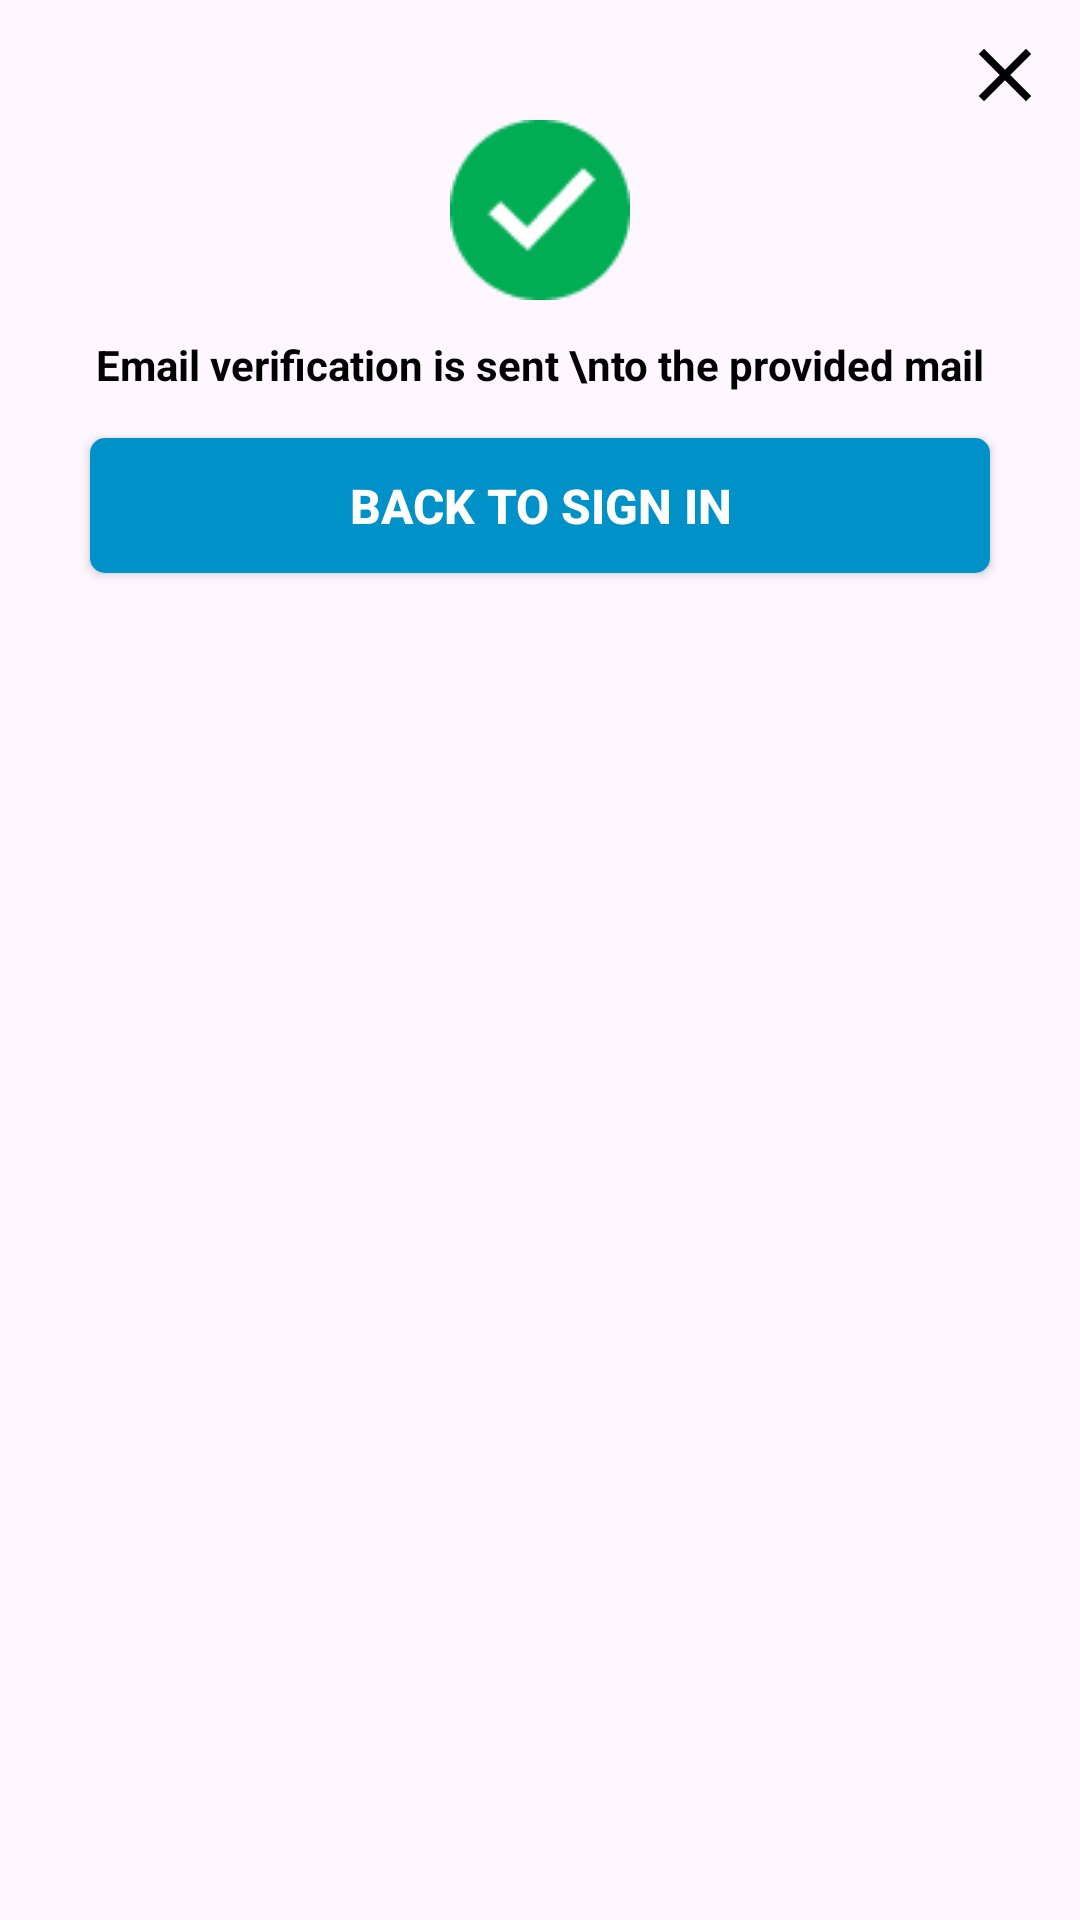

Where icons sit on this 1080px x 1920px app screen, as box=[x1, y1, x2, y2]:
close: box=[979, 49, 1031, 101]
confirm: box=[450, 120, 630, 300]
